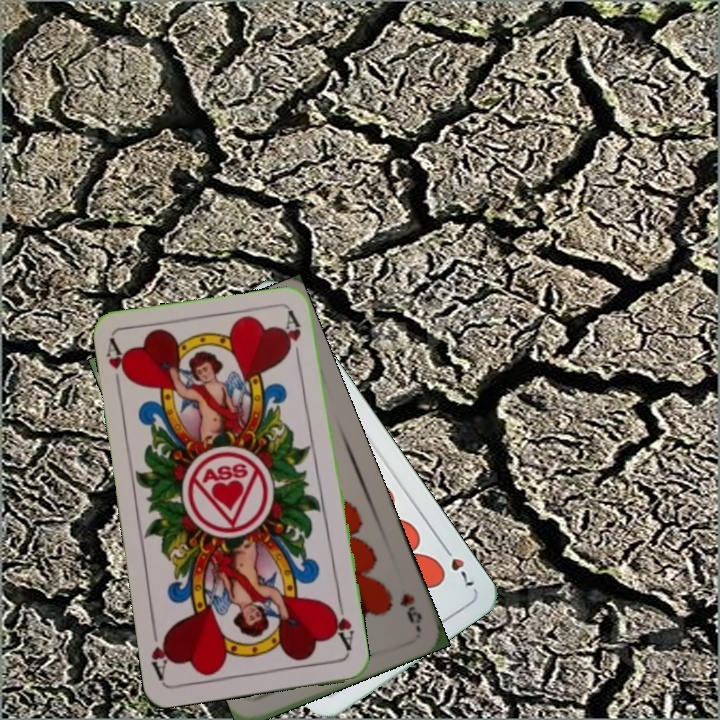H7: (438, 540, 477, 589)
H9: (395, 589, 425, 630)
HA: (102, 336, 133, 395), (326, 596, 356, 653)
